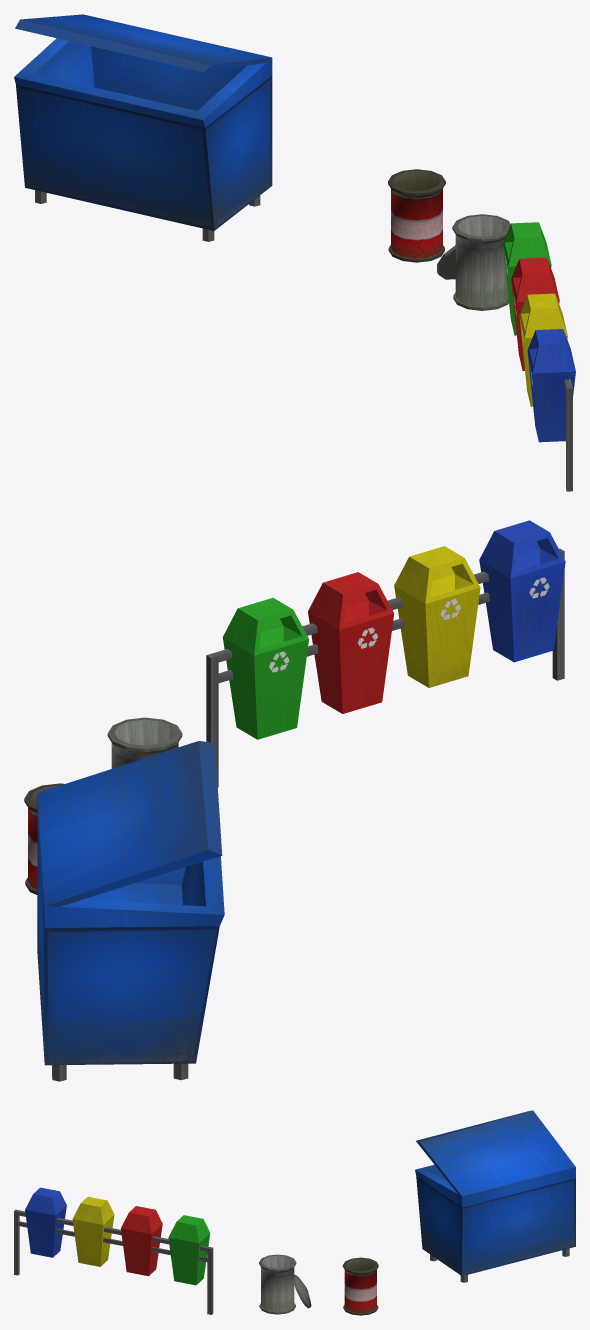
The model's file is lixeiras_mod.fbx.
3 views of the same model, one above another, from view 1: azimuth 30°, elevation 25°; view 2: azimuth 150°, elevation 25°; view 3: azimuth 270°, elevation 25° (orthographic). The views are drawn at different scales.
Parts seen in each view (by area): view 1: Cube.000, Cube.002, Cube.003, Cube.001; view 2: Cube.000, Cube.002, Cube.003, Cube.001; view 3: Cube.000, Cube.002, Cube.003, Cube.001, Cube.004.
Part boxes in pixels (x1,y1,x2,y2): Cube.000: (14, 14, 272, 241); Cube.002: (503, 222, 575, 491); Cube.003: (452, 214, 510, 310); Cube.001: (388, 169, 445, 262); Cube.000: (37, 741, 224, 1081); Cube.002: (206, 520, 565, 787); Cube.003: (107, 717, 182, 768); Cube.001: (24, 783, 64, 894); Cube.000: (415, 1110, 575, 1282); Cube.002: (14, 1187, 213, 1314); Cube.003: (259, 1254, 296, 1314); Cube.001: (342, 1257, 378, 1315); Cube.004: (293, 1274, 311, 1308).
Bounding box in the file's own units: 233 × 154 × 624.
